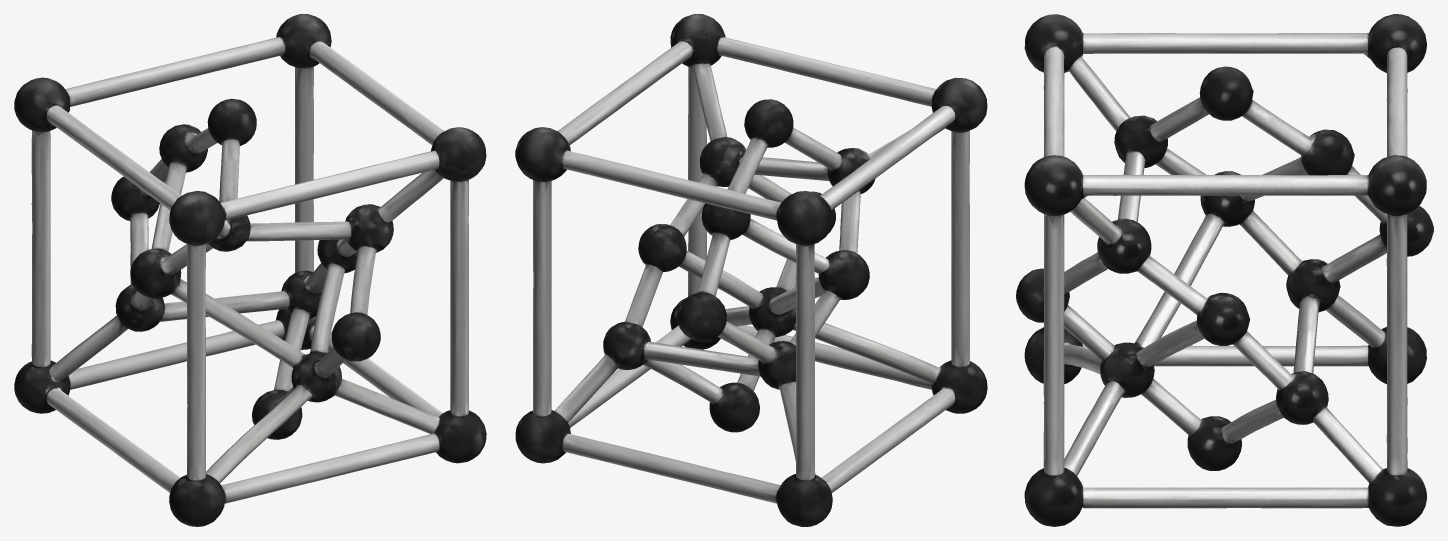
File: diamond-lattice.glb
3 renders of one model, left to right at view 1: azimuth 30°, elevation 25°; view 2: azimuth 150°, elevation 25°; view 3: azimuth 270°, elevation 25°, orthographic. The views are drawn at different scales.
Parts seen in each view (by area): view 1: diamond-lattice; view 2: diamond-lattice; view 3: diamond-lattice.
Part boxes in pixels (box(x1,y1,x2,y2)): diamond-lattice: box(14, 14, 486, 526); diamond-lattice: box(515, 14, 987, 526); diamond-lattice: box(1016, 14, 1433, 526).
Bounding box in the file's own units: 0.2367 × 0.25 × 0.2496.
Materials: 1 (1 with a texture image).
